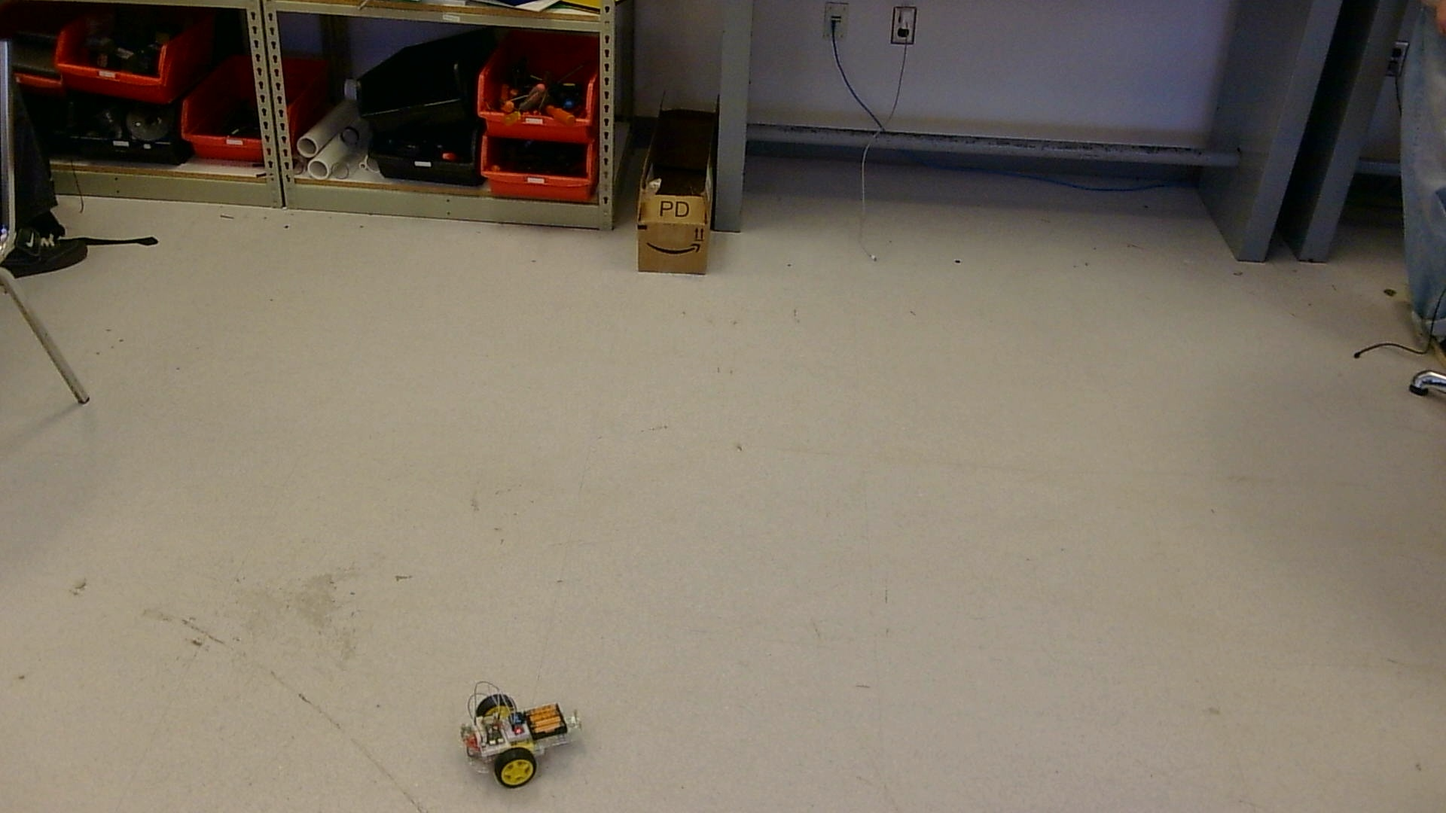robot: (459, 681, 577, 787)
